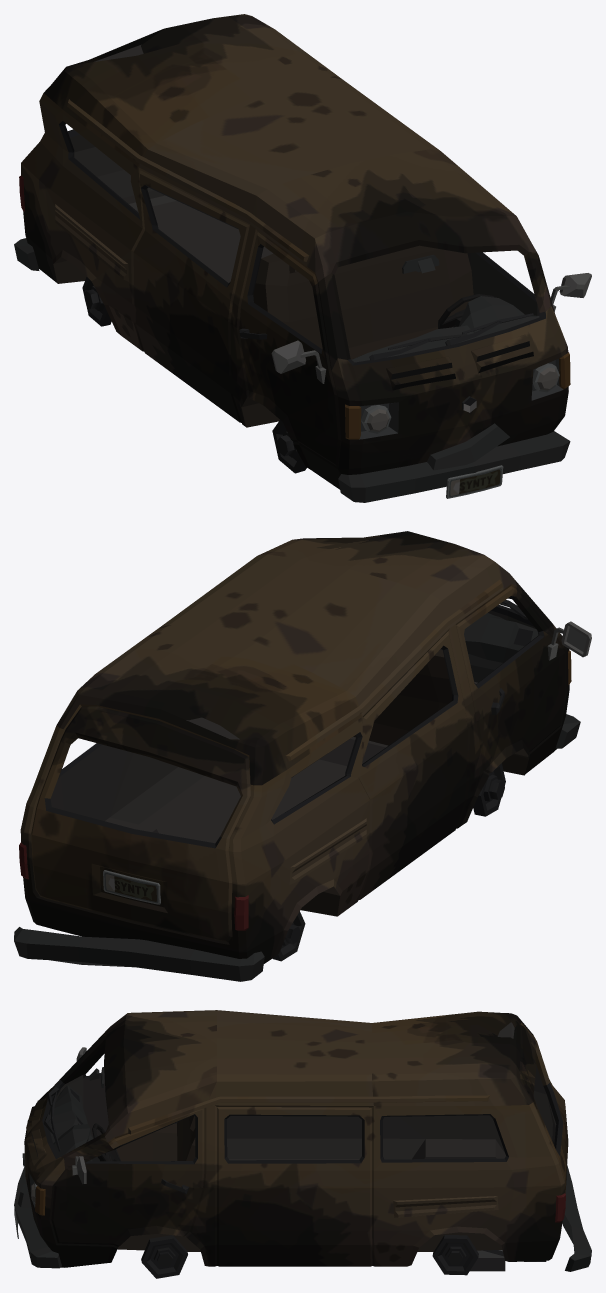
The model's file is SM_Veh_Van_Destroyed_01.fbx.
3 views of the same model, one above another, from view 1: azimuth 30°, elevation 25°; view 2: azimuth 150°, elevation 25°; view 3: azimuth 270°, elevation 25° (orthographic). The views are drawn at different scales.
Visible parts, largest first — view 1: SM_Veh_Van_Destroyed_01; view 2: SM_Veh_Van_Destroyed_01; view 3: SM_Veh_Van_Destroyed_01.
Part boxes in pixels (<box>): SM_Veh_Van_Destroyed_01: <box>14,14,591,502</box>; SM_Veh_Van_Destroyed_01: <box>14,531,591,981</box>; SM_Veh_Van_Destroyed_01: <box>14,1010,591,1278</box>.
Size of the model in its own units: 242 by 186 by 475.
